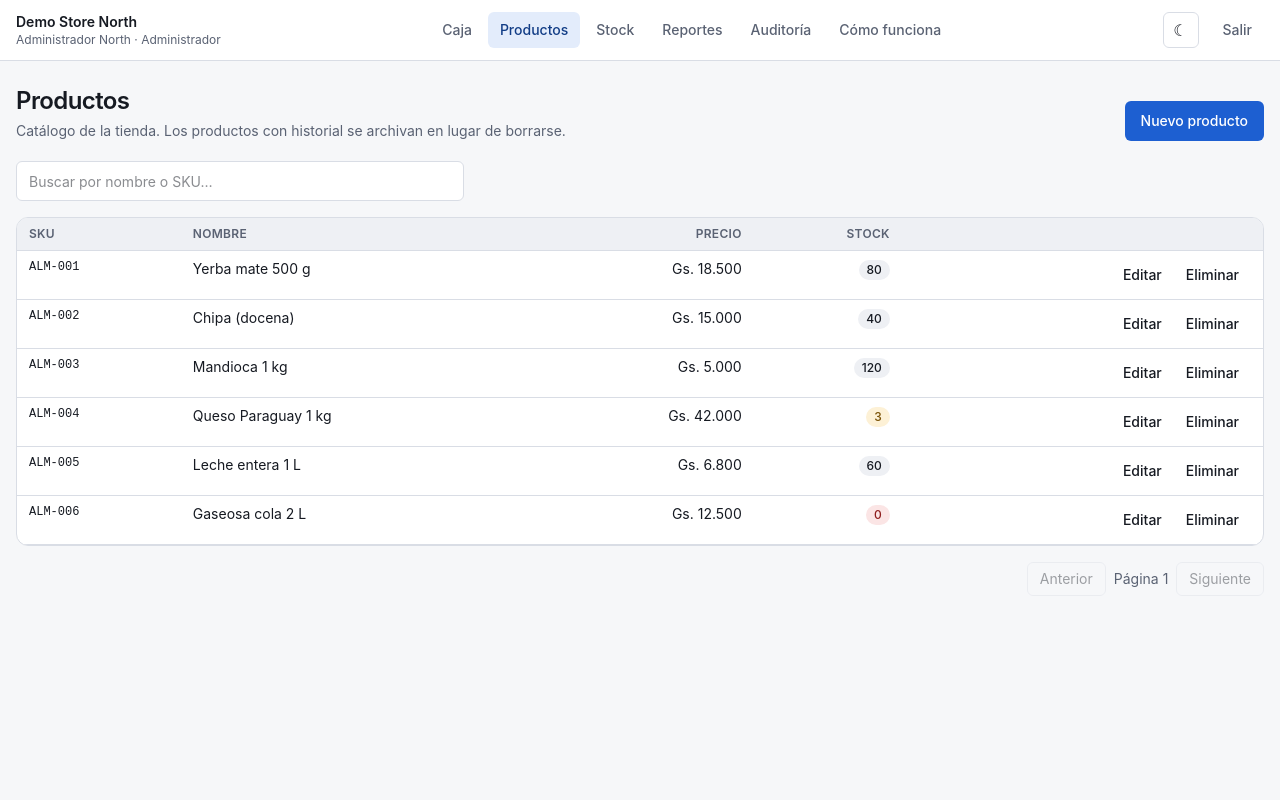
Test: products page › archives products with history and deletes the rest
Check: the text "Yerba mate 500 g" is shown, box [181, 250, 539, 300]
Step 1. Click the button with aria-label "Eliminar Mandioca 1 kg" → [1212, 373], box [1174, 357, 1251, 389]
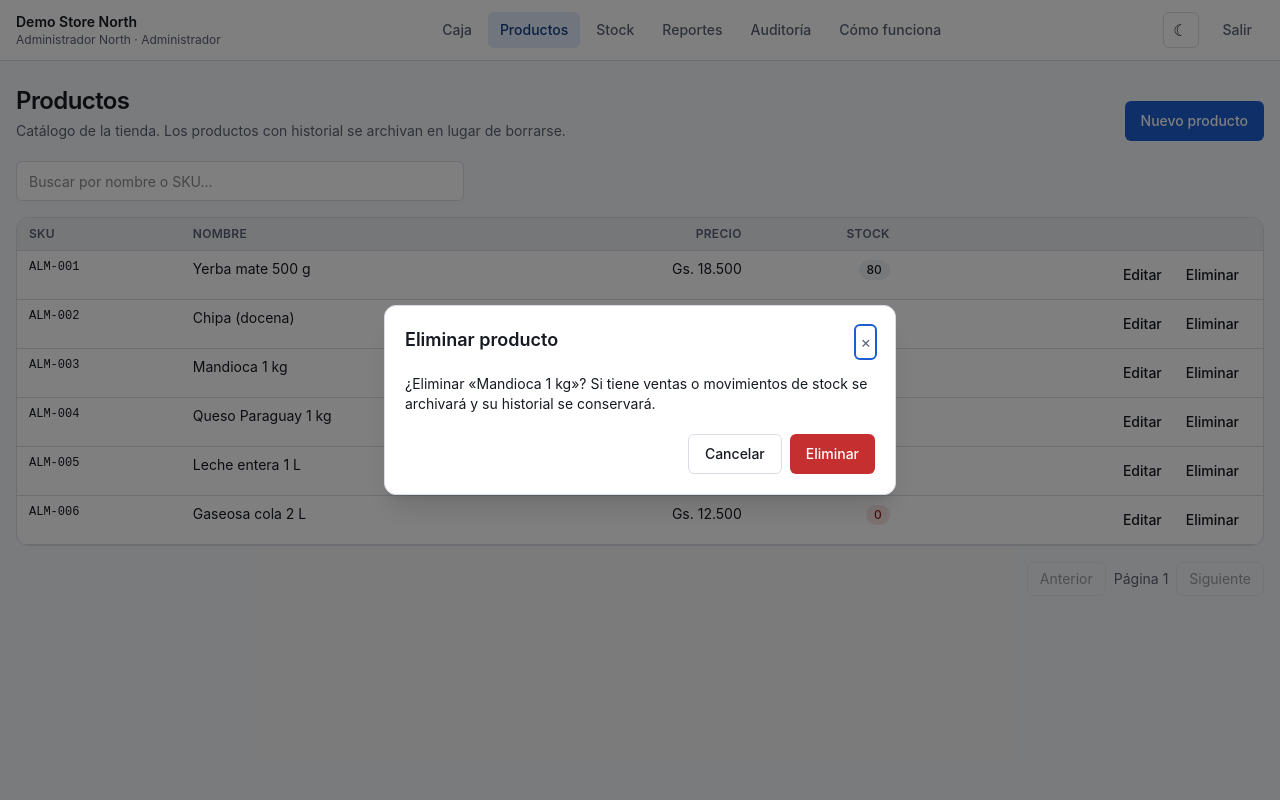
Step 2. Click the button "Eliminar" → [832, 454], box [790, 434, 875, 474]
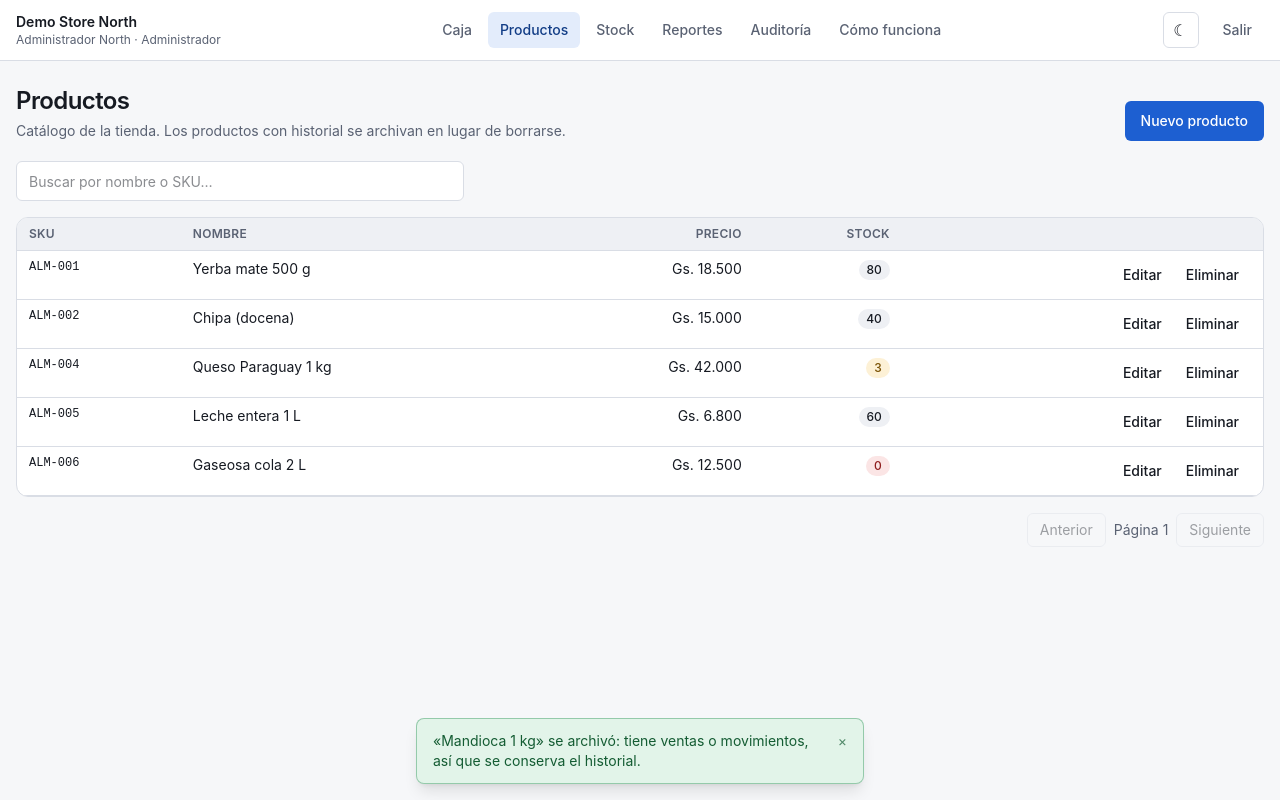
Check: the text "«Mandioca 1 kg» se archivó" is shown, box [433, 732, 809, 769]
A product without sales or movements is removed for good.
Step 3. Click the button with aria-label "Eliminar Gaseosa cola 2 L" → [1212, 471], box [1174, 455, 1251, 487]
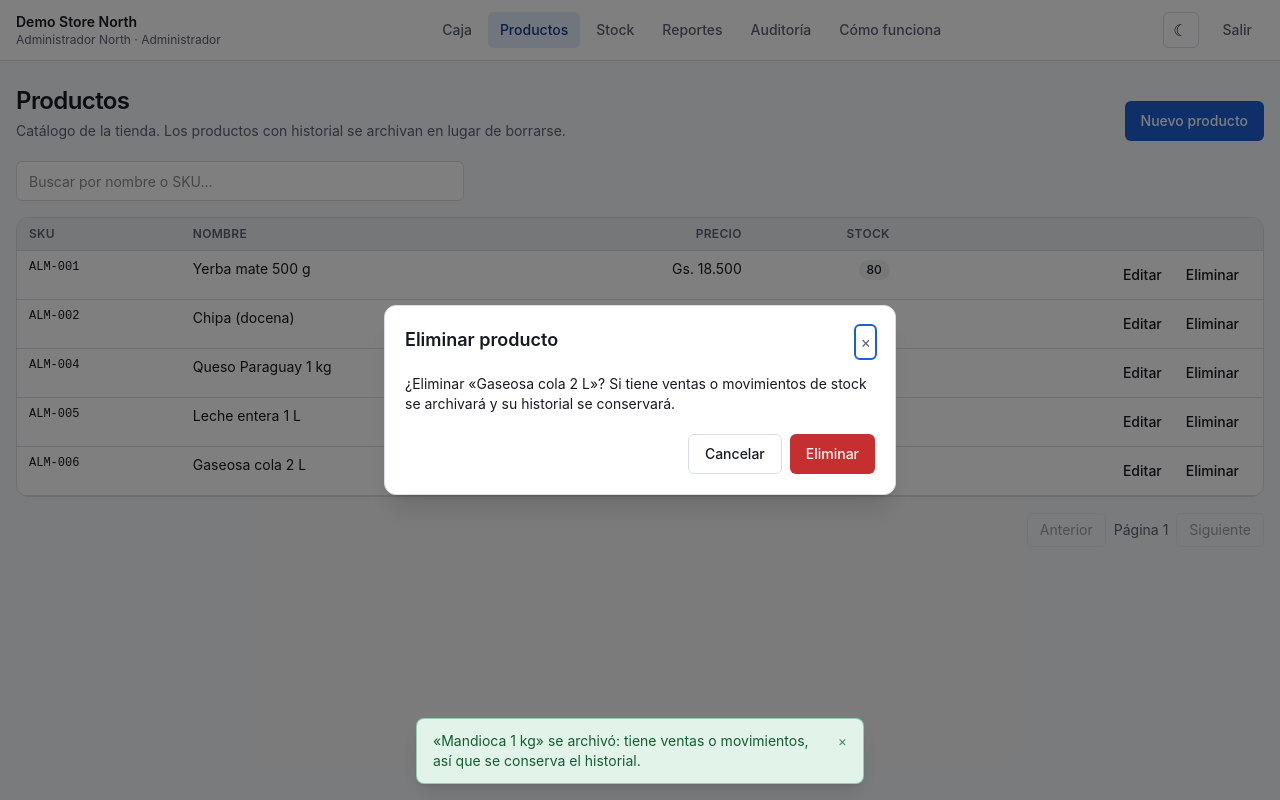
Step 4. Click the button "Eliminar" → [832, 454], box [790, 434, 875, 474]
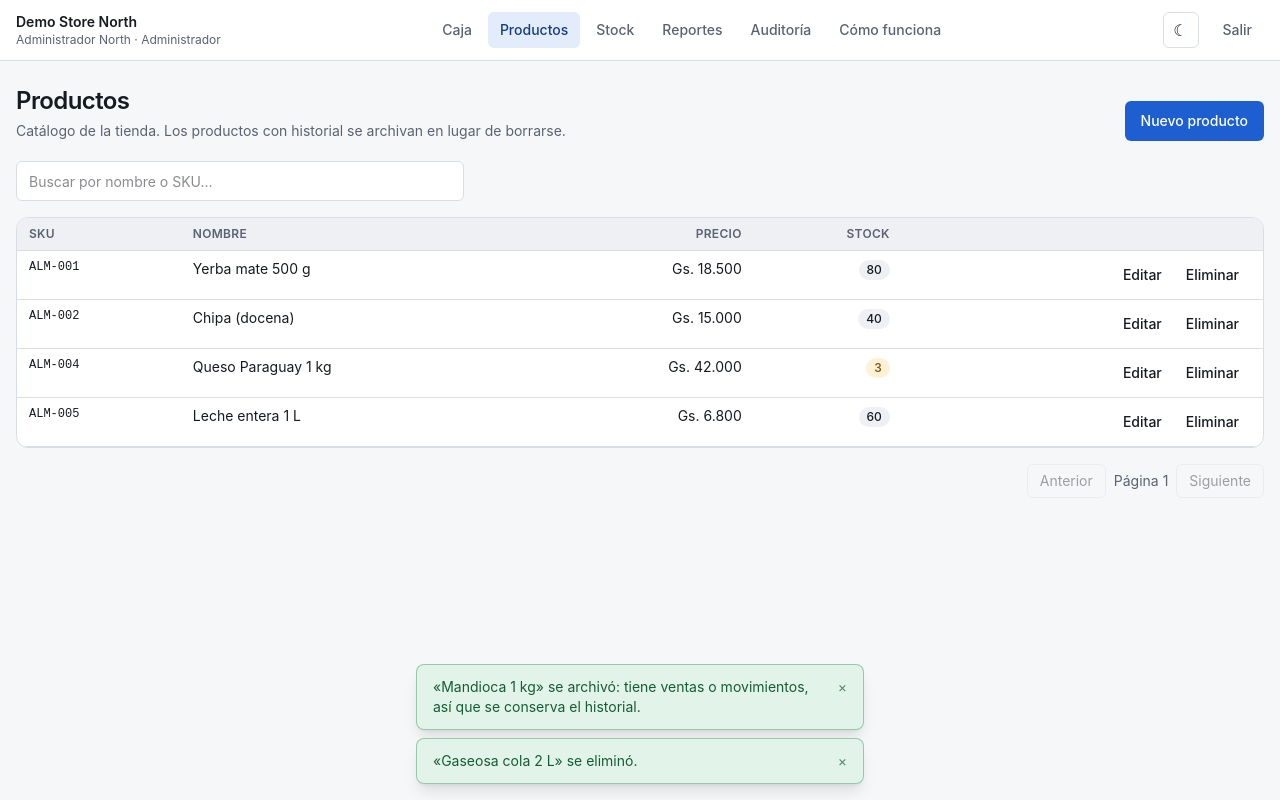
Check: the text "«Gaseosa cola 2 L» se eliminó." is shown, box [433, 752, 638, 769]
